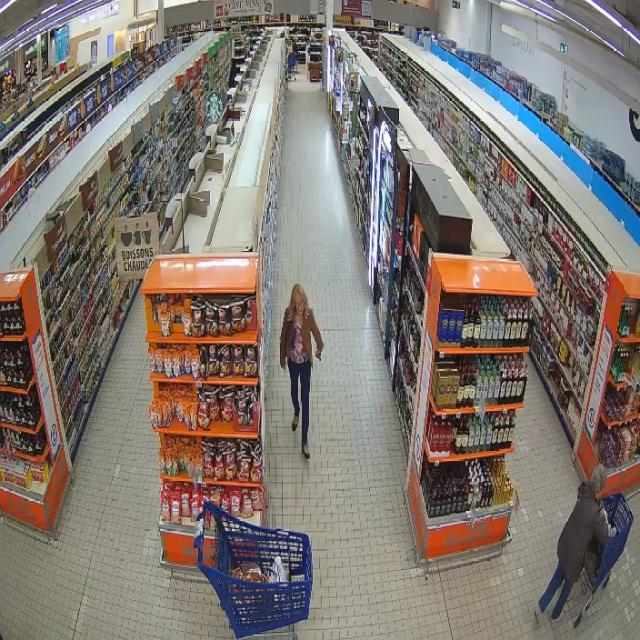article: (316, 349, 321, 359)
person: (535, 466, 612, 619), (280, 283, 323, 459)
